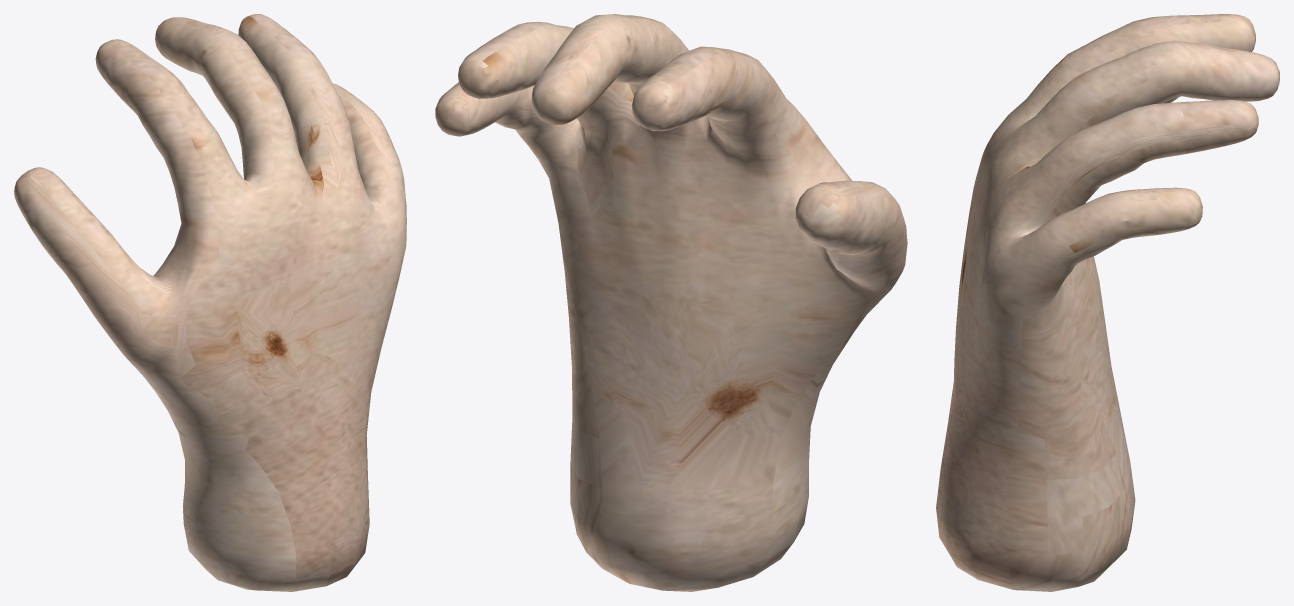
File: hand4.obj
3 renders of one model, left to right at view 1: azimuth 30°, elevation 25°; view 2: azimuth 150°, elevation 25°; view 3: azimuth 270°, elevation 25°, orthographic. The views are drawn at different scales.
Visible parts, largest first — view 1: Cube.001; view 2: Cube.001; view 3: Cube.001.
Boxes of the visible parts, box(x1,y1,x2,y2) form: Cube.001: box(14, 14, 406, 591); Cube.001: box(435, 14, 907, 591); Cube.001: box(936, 14, 1279, 591).
Size of the model in its own units: 3.69 by 5.2 by 3.04.
